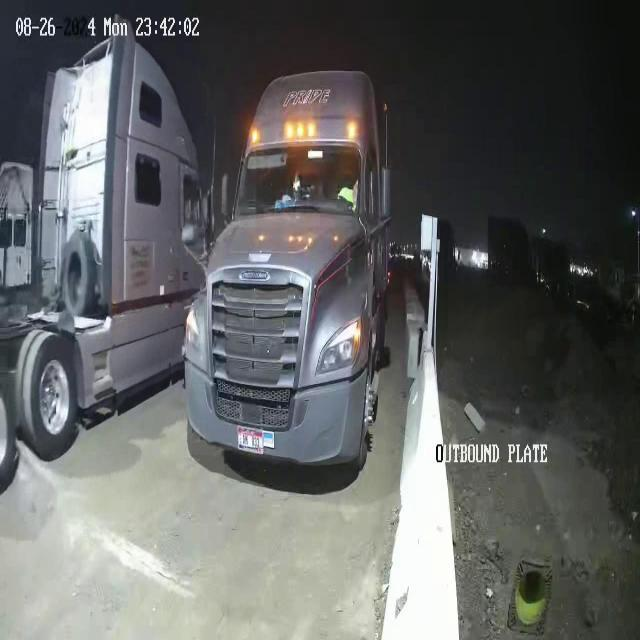TRUCK_OUT: (0, 25, 212, 448), (181, 64, 393, 472)
